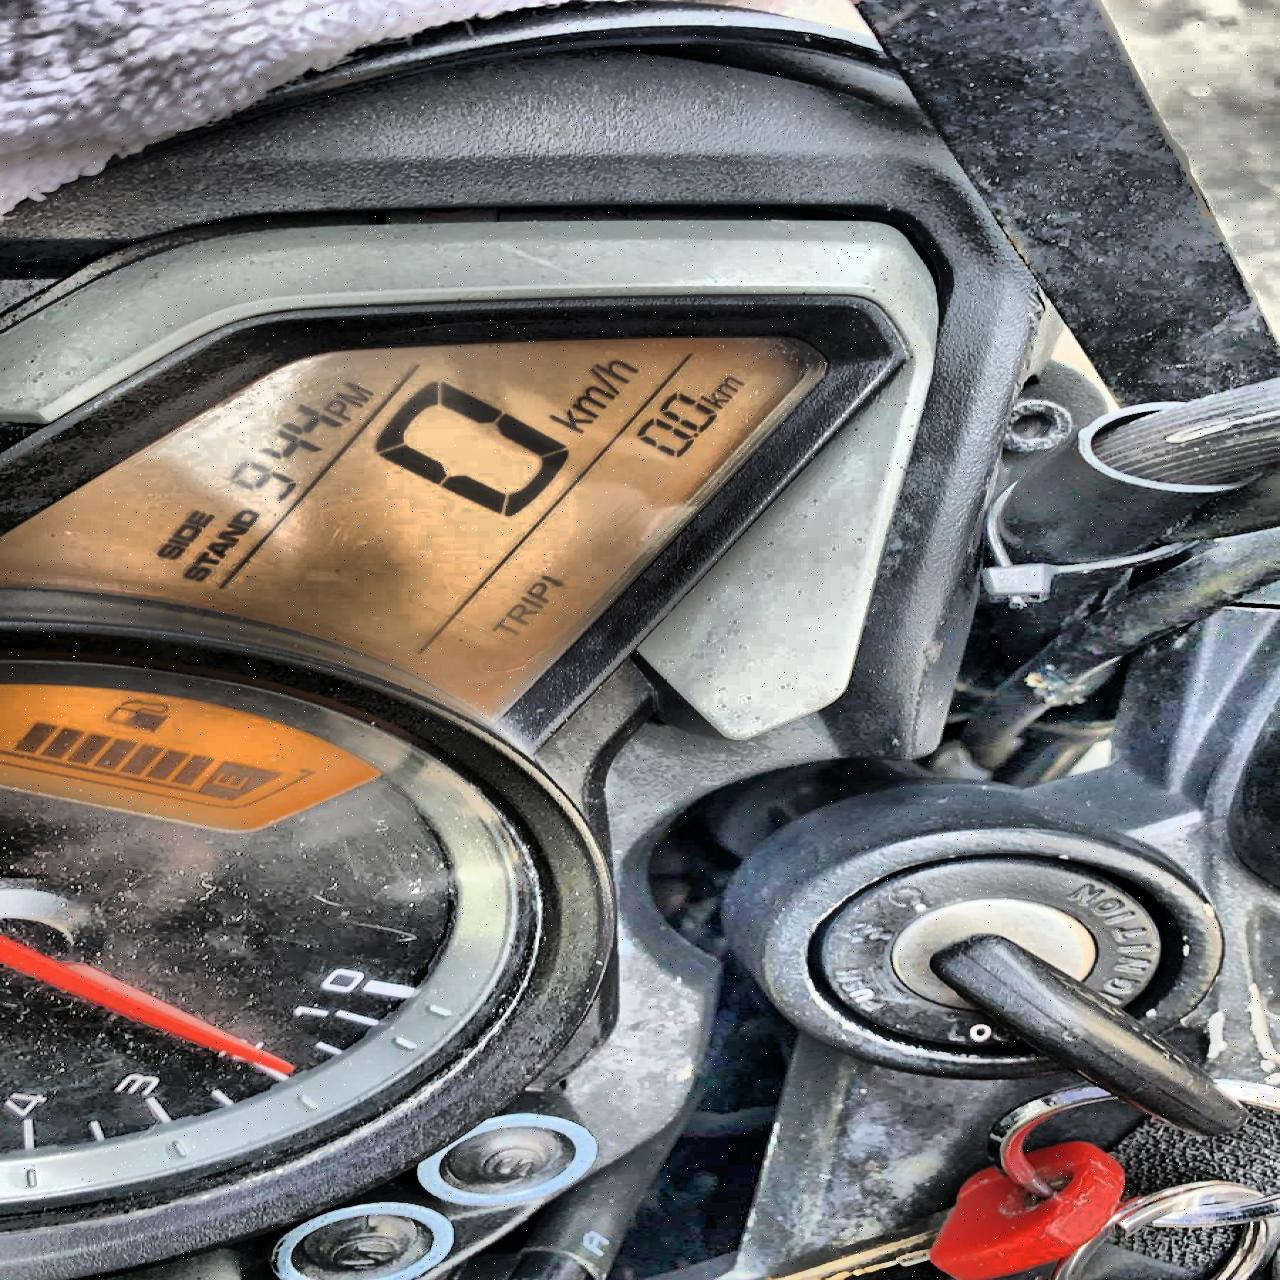-: (689, 430, 701, 438)
0: (366, 379, 573, 518), (632, 417, 694, 457), (655, 392, 716, 431)
1: (539, 572, 560, 586)
4: (279, 404, 341, 434), (260, 429, 321, 458)
9: (227, 459, 293, 501)
X: (570, 384, 610, 417), (335, 380, 372, 407), (593, 360, 636, 382), (547, 409, 588, 433), (585, 367, 618, 394), (714, 375, 744, 399), (321, 399, 353, 418), (505, 602, 535, 624), (697, 392, 728, 409), (218, 523, 245, 542), (524, 581, 547, 602), (490, 618, 517, 635), (232, 508, 257, 526), (184, 510, 213, 525), (172, 523, 199, 539), (181, 564, 207, 580), (205, 542, 233, 557), (154, 544, 181, 558), (193, 551, 220, 565), (518, 595, 542, 608), (165, 536, 188, 546)
odometer: (6, 321, 855, 728)
